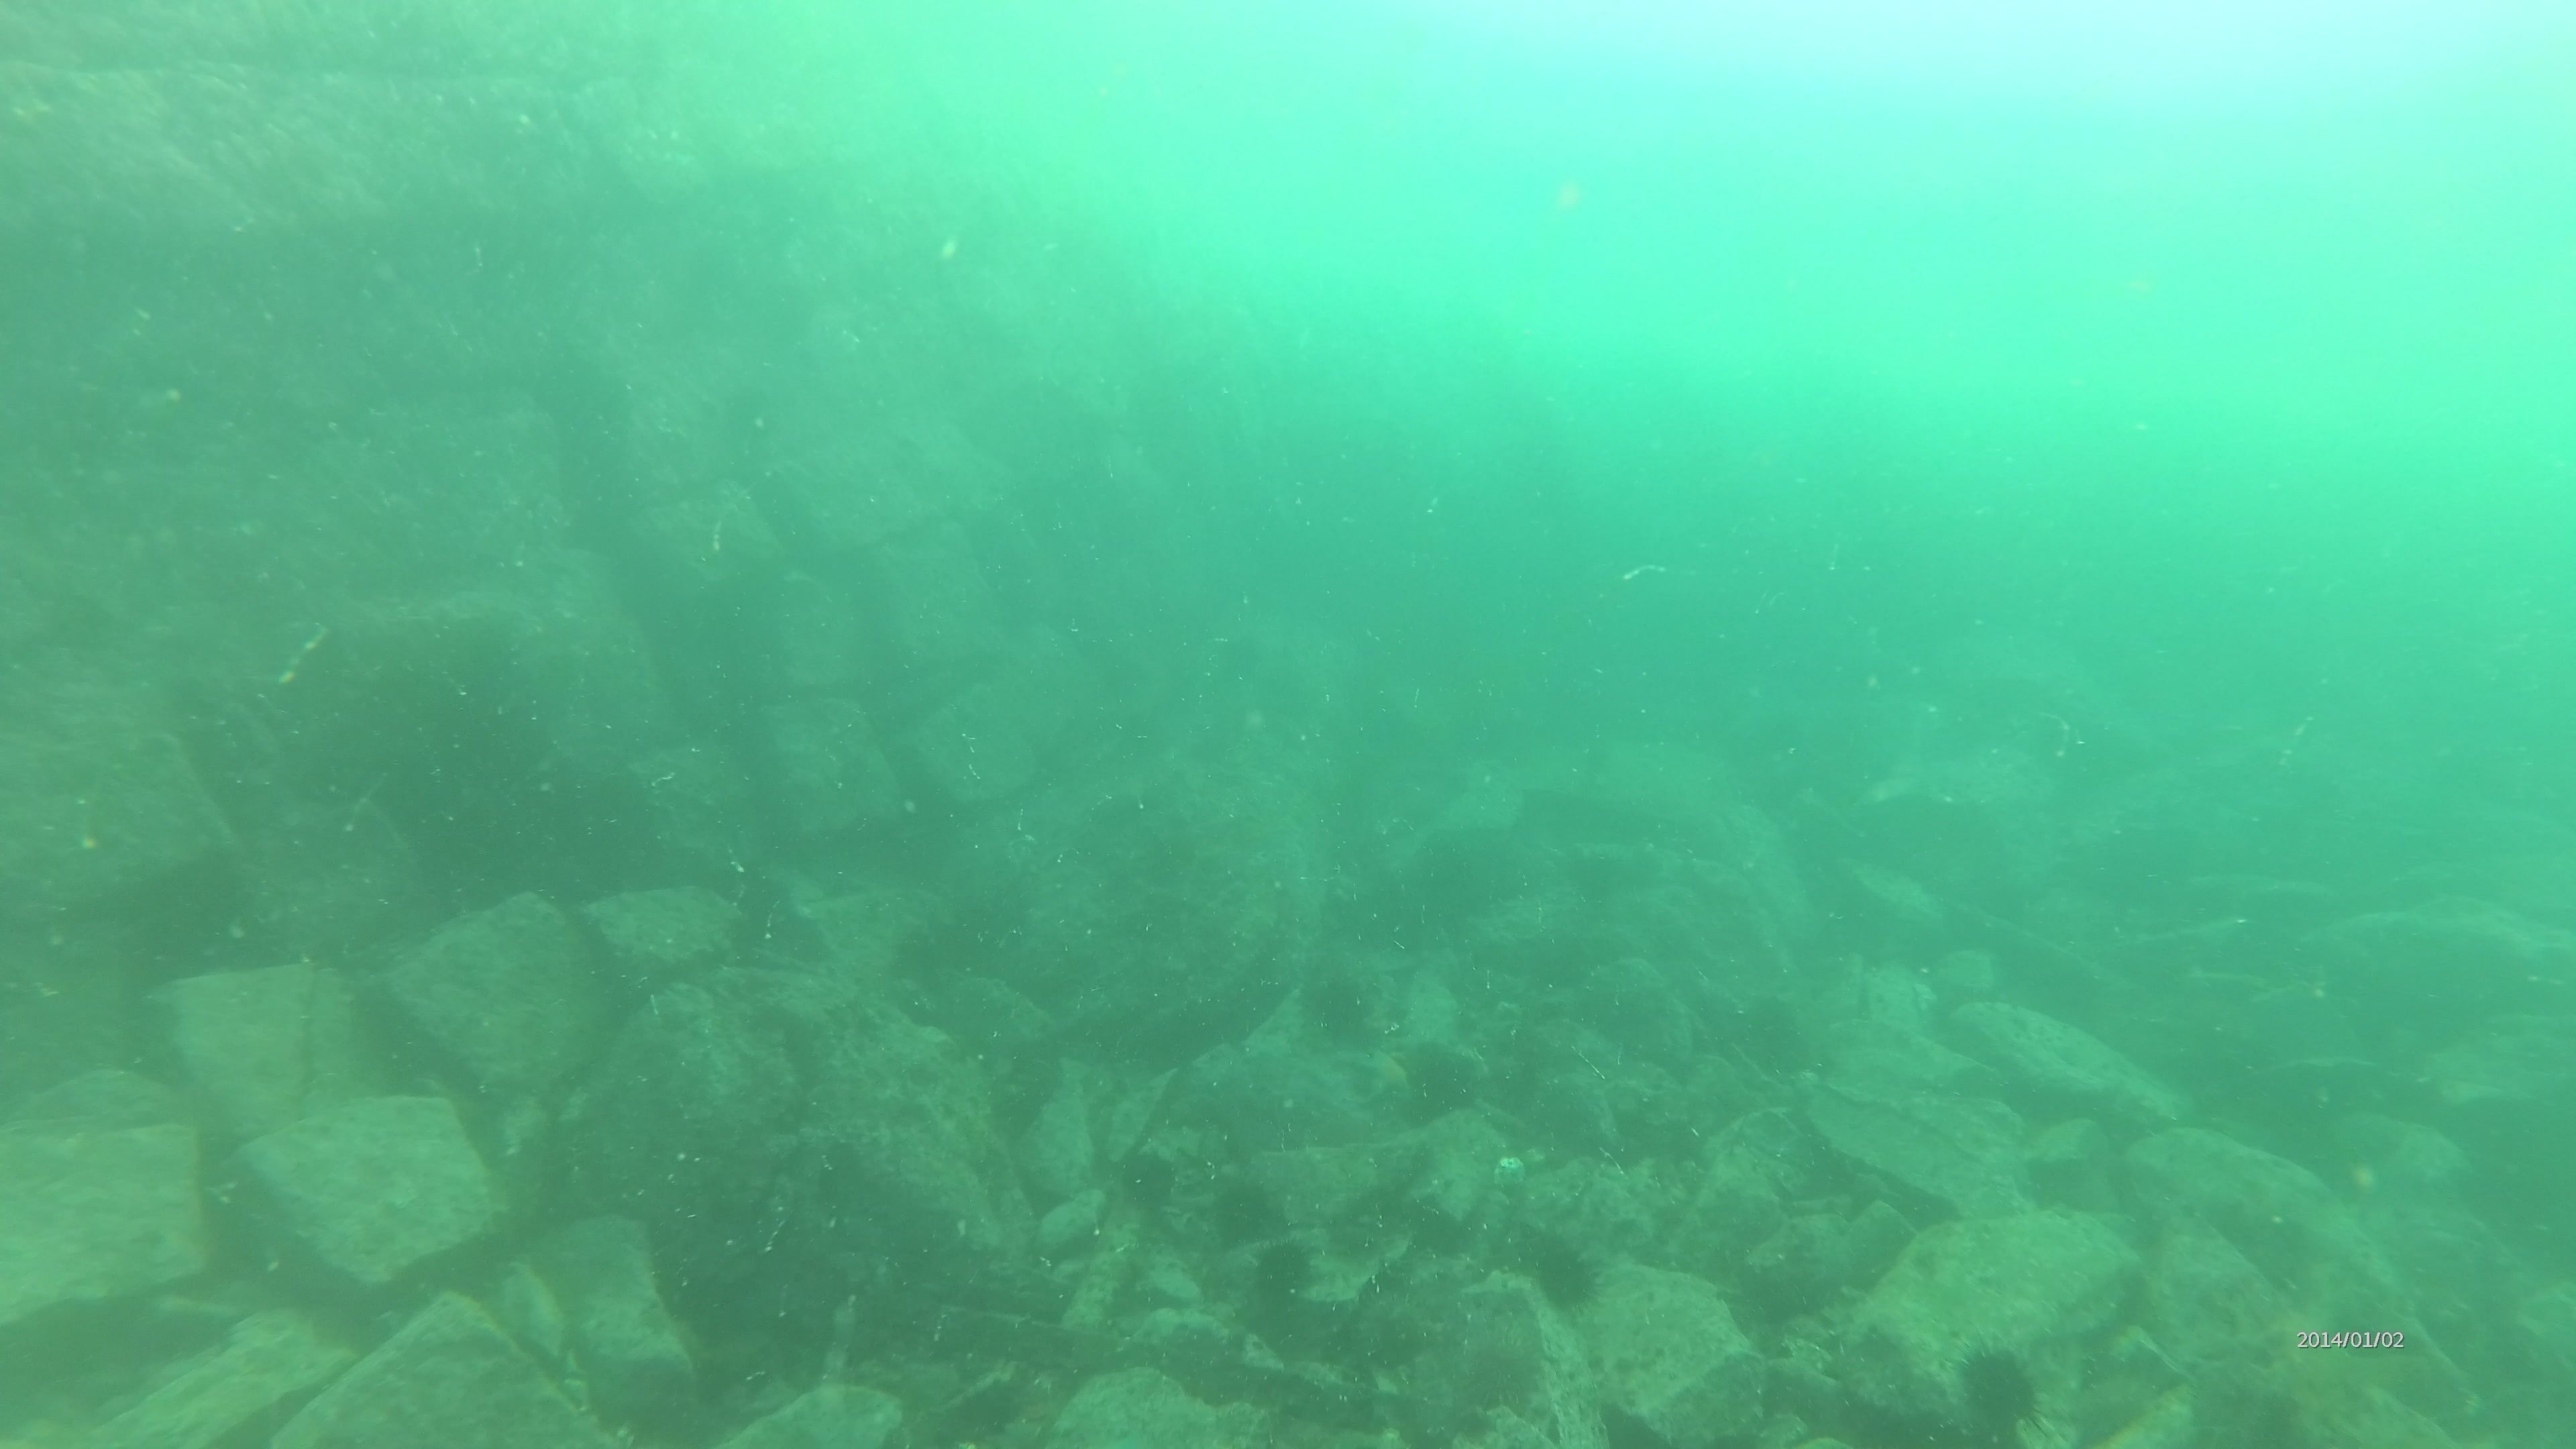echinus: (1946, 1336, 2052, 1445), (1387, 1035, 1488, 1127), (1292, 959, 1387, 1054), (1518, 1224, 1612, 1320), (1235, 1231, 1325, 1325), (1200, 1168, 1292, 1256)
